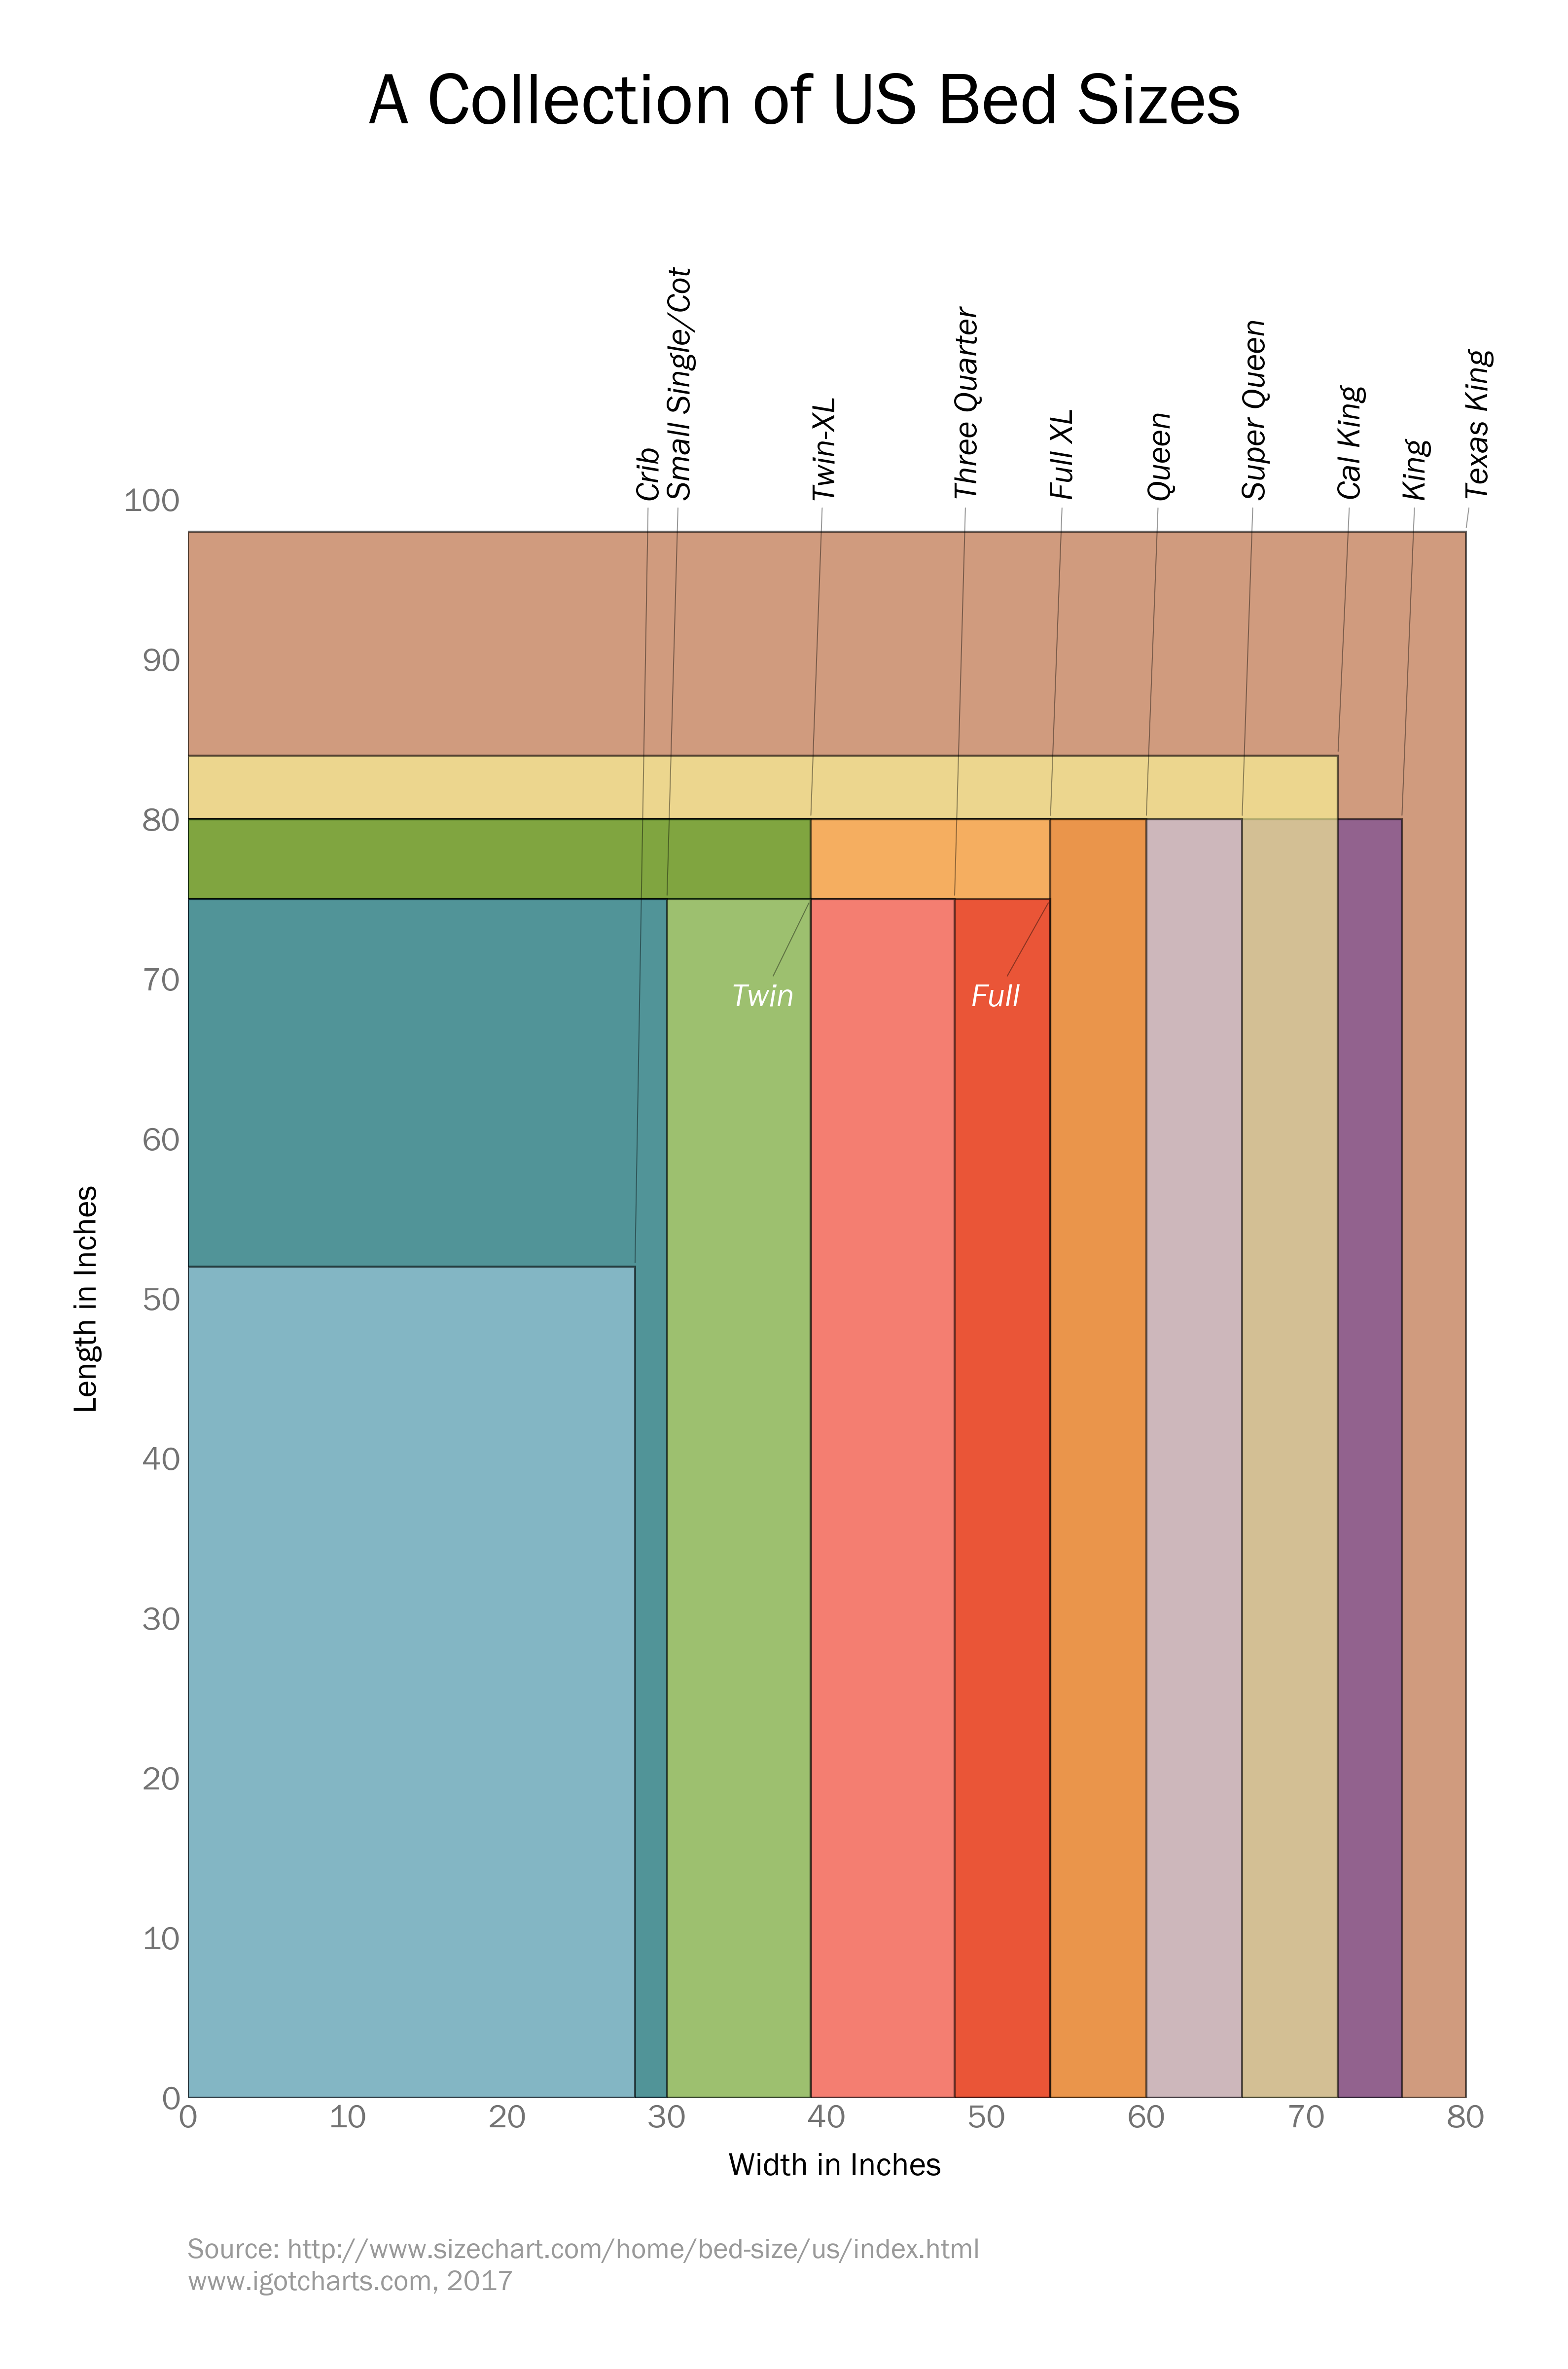

What the dashboard file says about the page in this screenshot:
{"tool":"tableau","page":{"name":"Dashboard 1","canvas":[1000,700],"ordinal":0},"visuals":[{"type":"worksheet","title":"Sheet 1","mark":"Shape","rows":["Function"],"cols":["Chart Type"],"box":[7,10,934,584]},{"type":"worksheet","title":"column totals","mark":"Automatic","cols":["Chart Type"],"box":[166,608,777,31]}]}

Visuals, with their boxes on the page's 1000x700 design canvas (x1, y1, x2, y2). These are canvas units, not pixel positions in the 1568x2369 screenshot, which may show the page scaled, cropped or inside an application window:
"Sheet 1" worksheet (Shape marks): [7,10,941,594]
"column totals" worksheet: [166,608,943,639]
